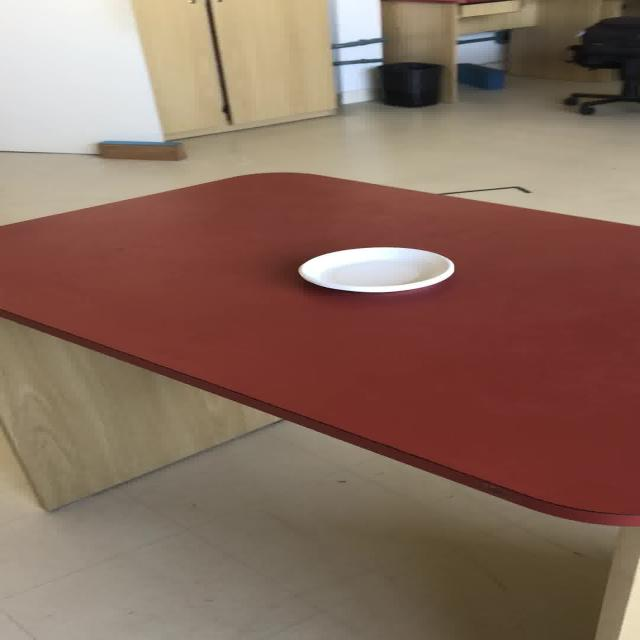plate: (296, 245, 454, 293)
